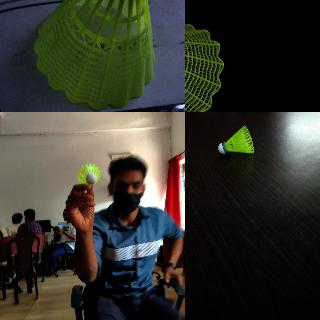shuttlecock: (33, 0, 162, 110), (185, 24, 224, 111), (218, 126, 254, 154), (77, 164, 101, 182)
